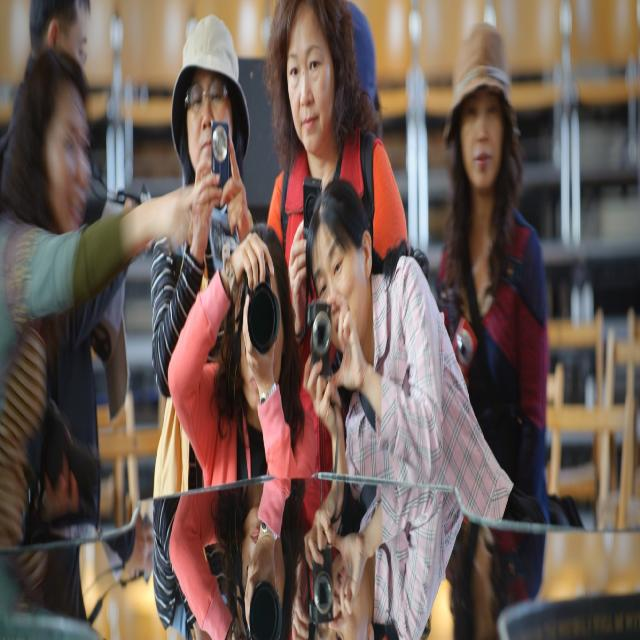body: (0, 43, 203, 638), (17, 424, 504, 639), (264, 0, 412, 607), (302, 173, 548, 524), (433, 13, 554, 639), (0, 0, 142, 424), (148, 11, 257, 501), (164, 220, 320, 494), (342, 0, 384, 130)
